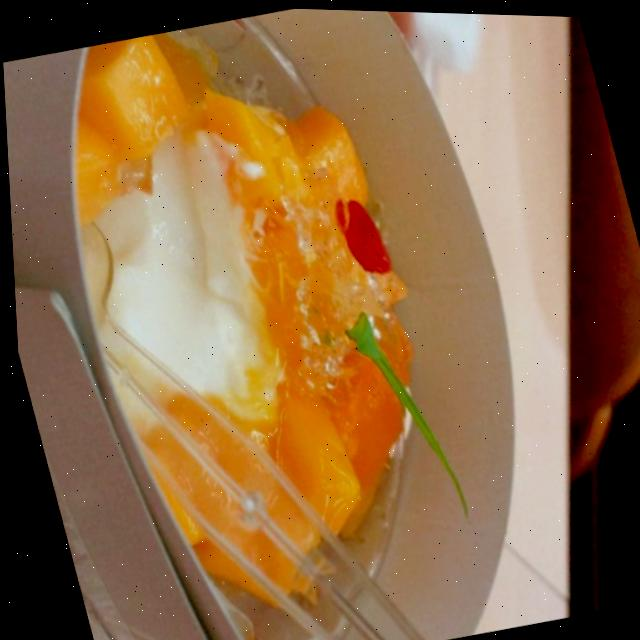三明治: (5, 21, 550, 622)
